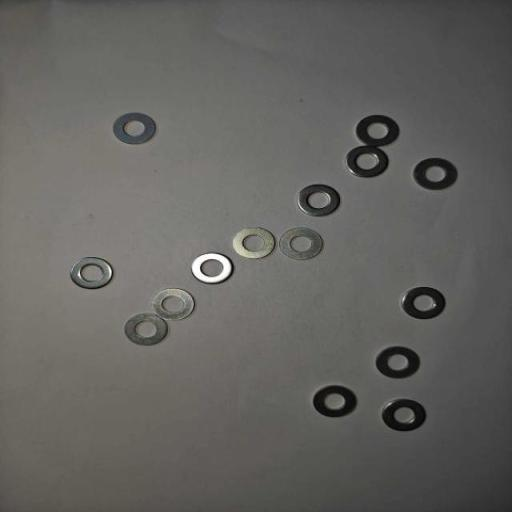Washer: (278, 226, 325, 262), (400, 285, 447, 321), (381, 397, 428, 433), (374, 345, 422, 380), (311, 384, 359, 419), (189, 250, 235, 286), (354, 113, 400, 148), (412, 156, 458, 191), (231, 226, 277, 261), (69, 256, 115, 291), (123, 312, 169, 347), (112, 111, 157, 146), (345, 144, 390, 179), (297, 183, 342, 218), (150, 287, 196, 321)
